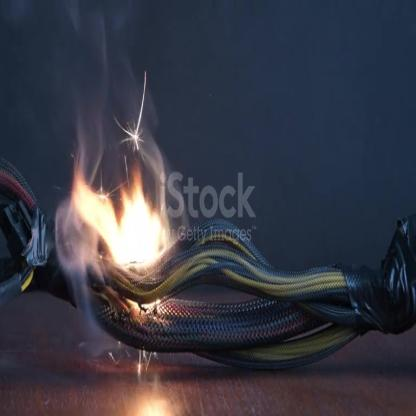fire: (72, 158, 170, 278)
smoke: (31, 6, 197, 337)
